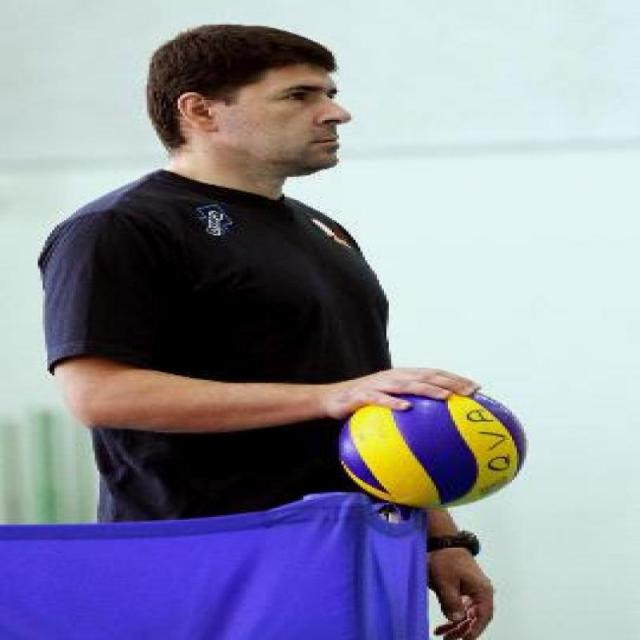volleyball: (337, 389, 526, 509)
